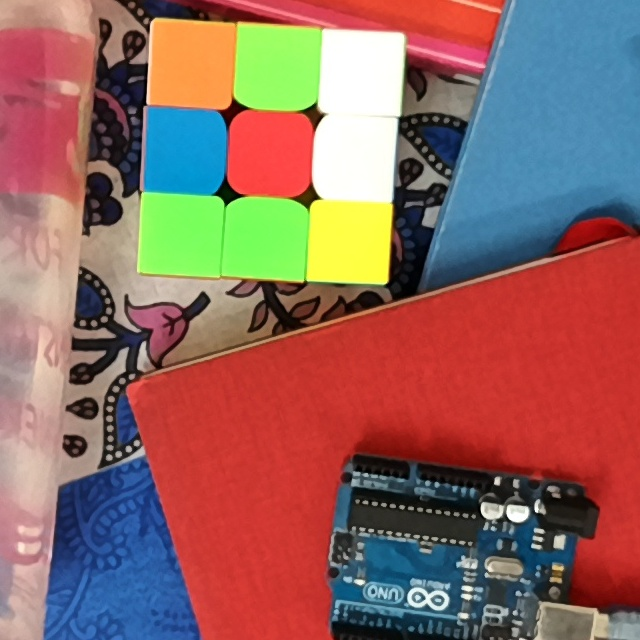tile: (154, 26, 228, 102), (327, 36, 397, 111), (242, 31, 314, 101), (145, 199, 217, 267), (236, 120, 305, 190), (316, 207, 385, 277), (149, 114, 217, 184), (232, 206, 304, 270), (323, 127, 387, 194)
